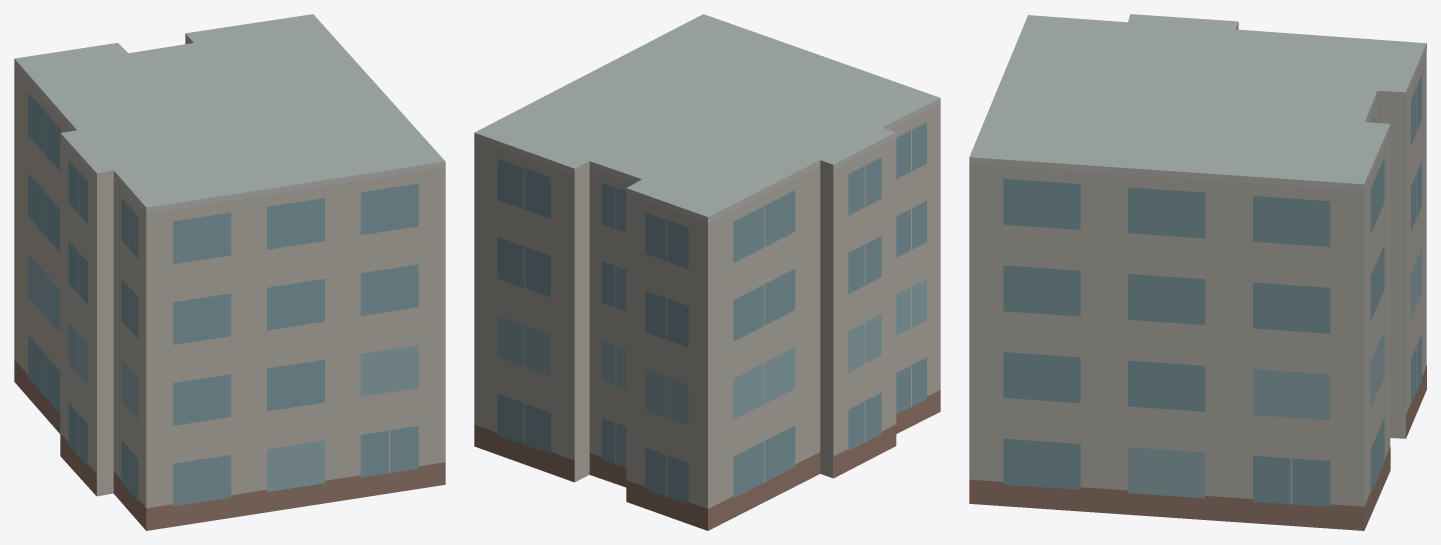
The model's file is survey-upis-32990920.glb.
3 renders of one model, left to right at view 1: azimuth 30°, elevation 25°; view 2: azimuth 150°, elevation 25°; view 3: azimuth 270°, elevation 25°, orthographic. The views are drawn at different scales.
Visible parts, largest first — view 1: survey-upis-32990920.tmp; view 2: survey-upis-32990920.tmp; view 3: survey-upis-32990920.tmp.
Part boxes in pixels (left/top/right/bottom): survey-upis-32990920.tmp: left=14, top=14, right=445, bottom=530; survey-upis-32990920.tmp: left=474, top=14, right=940, bottom=530; survey-upis-32990920.tmp: left=969, top=14, right=1426, bottom=530.
Bounding box in the file's own units: 13.5 × 12.8 × 15.32.
